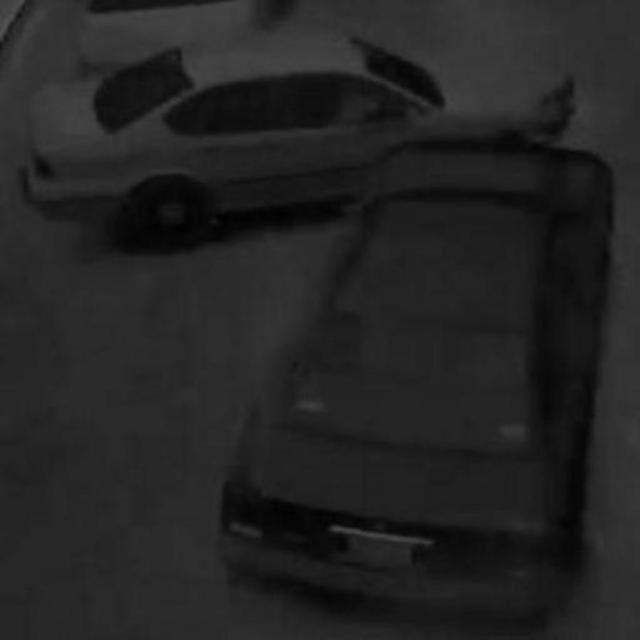accident: (23, 27, 611, 598)
